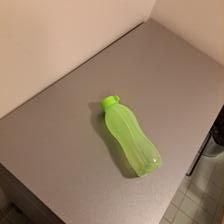bottle: (96, 92, 165, 177)
